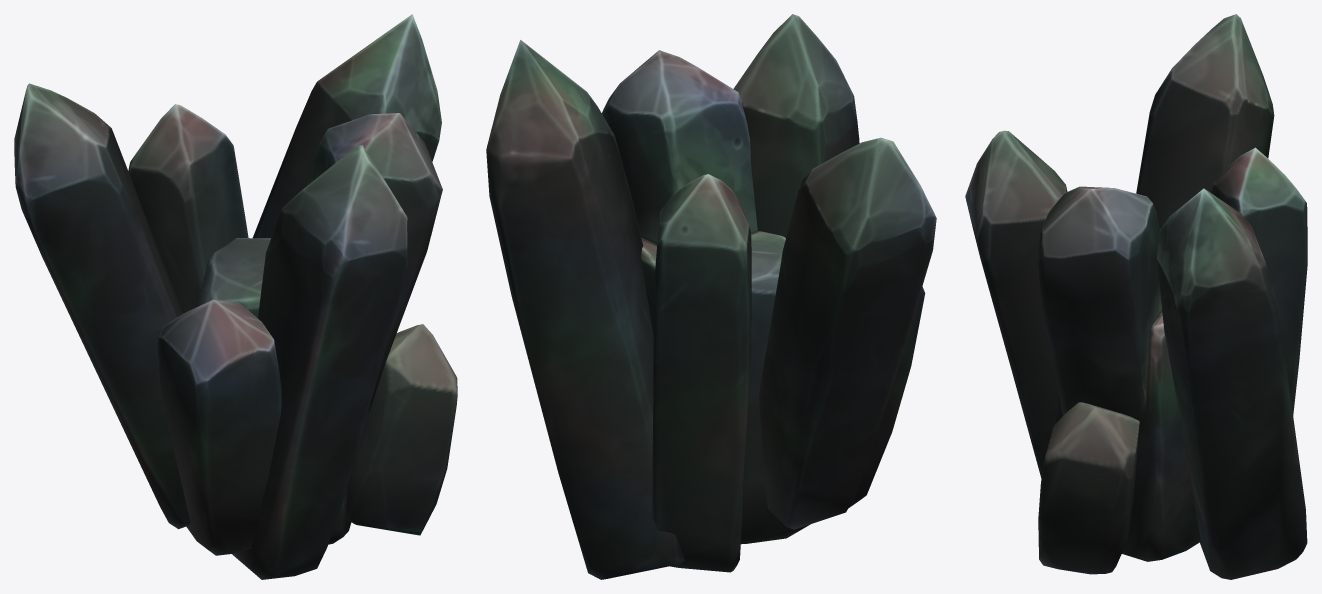
Rendered from SM_Gem_BlackQuartz_009.fbx.
3 views of the same model, side by side, from view 1: azimuth 30°, elevation 25°; view 2: azimuth 150°, elevation 25°; view 3: azimuth 270°, elevation 25° (orthographic). The views are drawn at different scales.
Parts seen in each view (by area): view 1: SM_Gem_BlackQuartz_009; view 2: SM_Gem_BlackQuartz_009; view 3: SM_Gem_BlackQuartz_009.
Boxes of the visible parts, bbox=[...] form: SM_Gem_BlackQuartz_009: bbox=[14, 14, 457, 579]; SM_Gem_BlackQuartz_009: bbox=[486, 14, 936, 579]; SM_Gem_BlackQuartz_009: bbox=[965, 14, 1307, 579].
Size of the model in its own units: 72.1 by 78.51 by 54.72.
